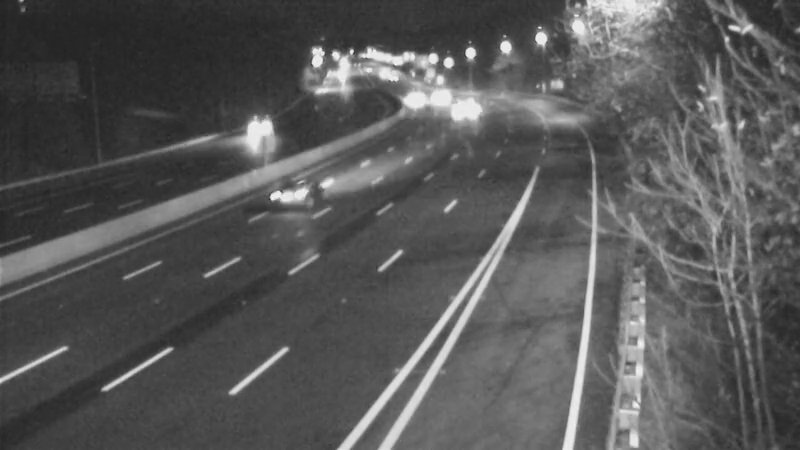vehicle: (261, 156, 341, 236), (365, 50, 415, 100), (414, 70, 464, 120), (380, 75, 430, 125), (443, 76, 493, 126), (435, 85, 485, 135), (233, 105, 283, 155)
